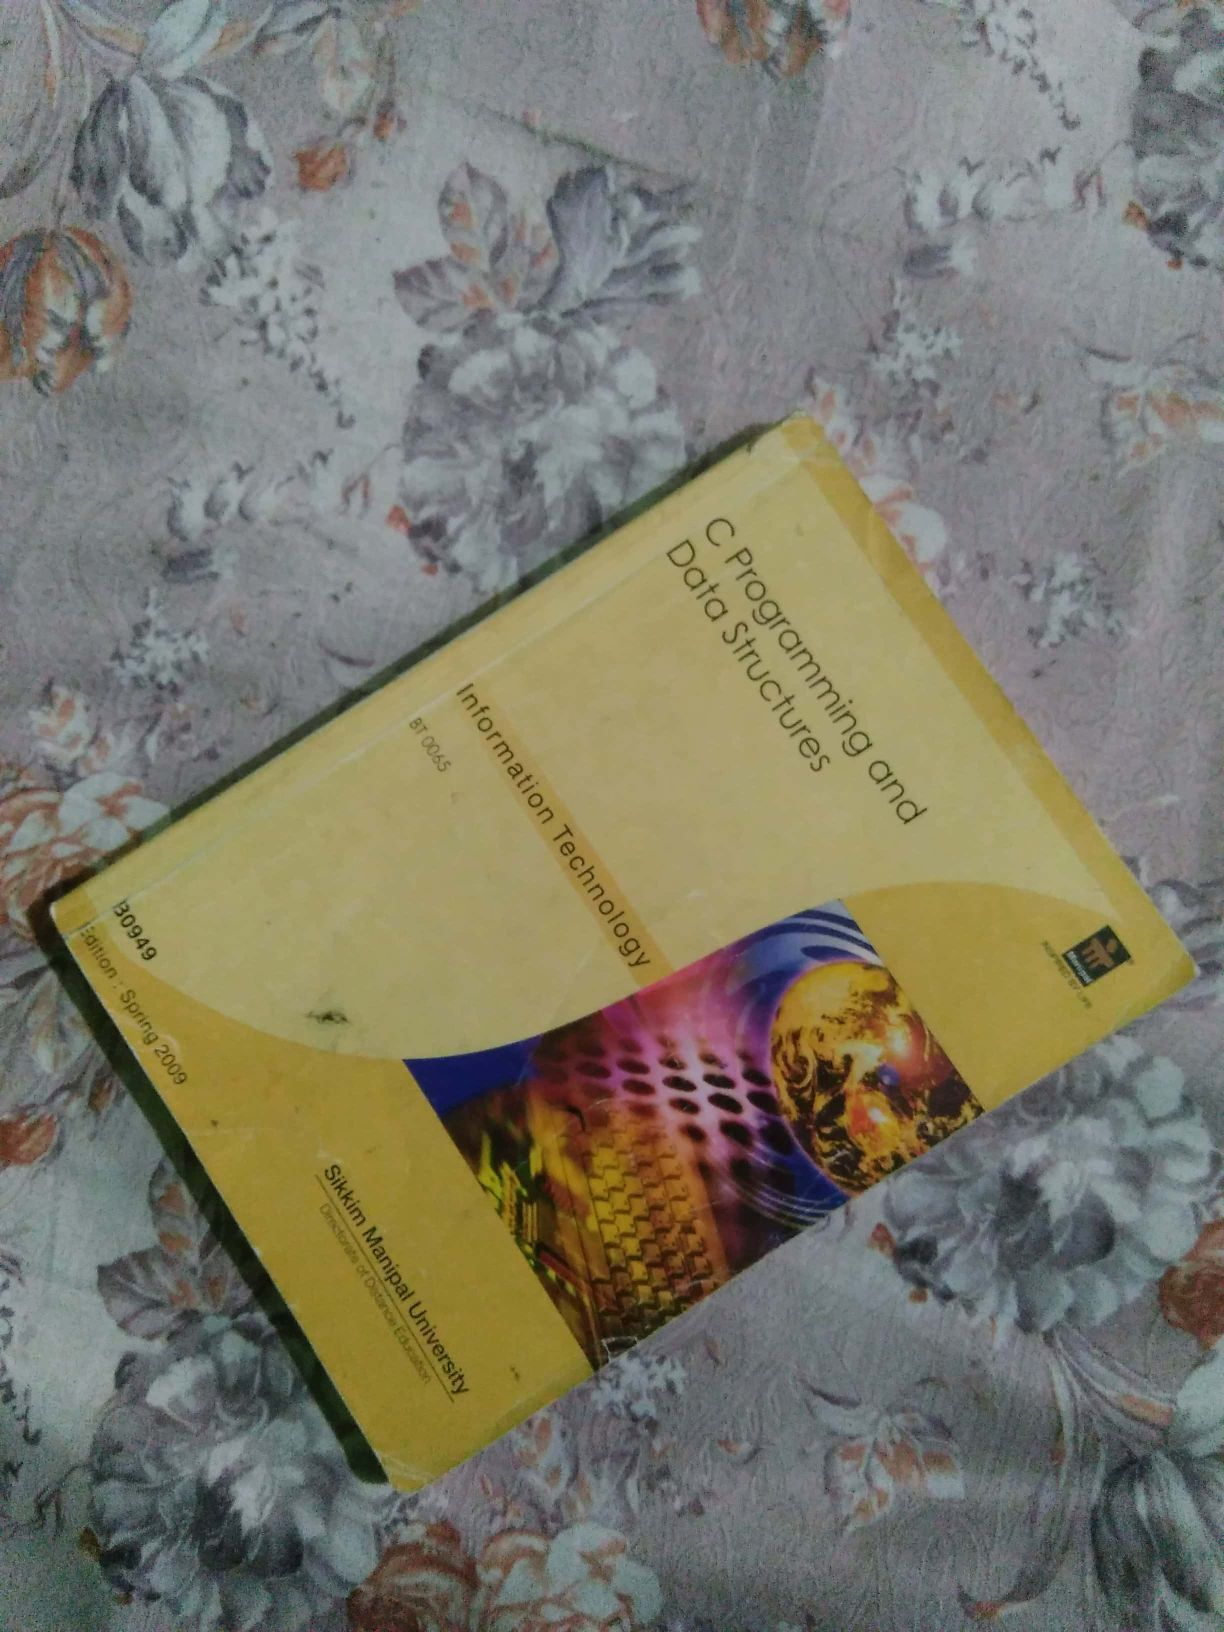clang: (84, 427, 1092, 1437)
